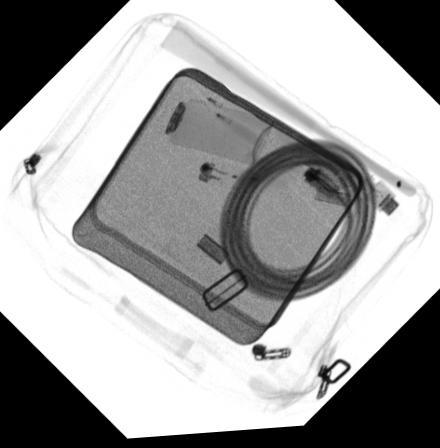Lighter: (198, 163, 255, 192)
Sprayer: (141, 98, 272, 168)
